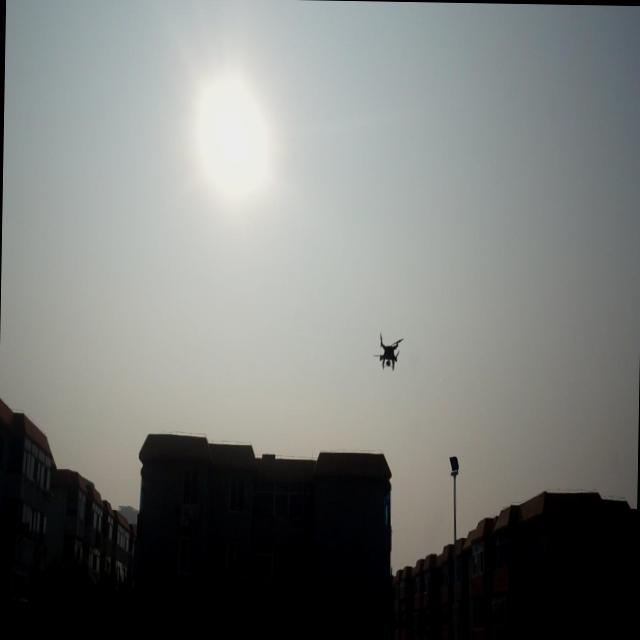drone: (373, 333, 403, 374)
